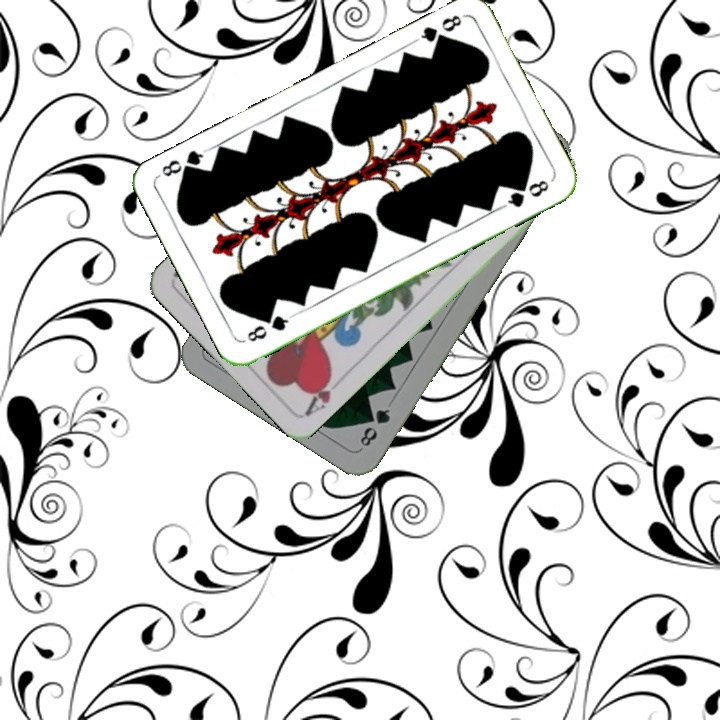G8: (411, 10, 466, 50), (243, 310, 295, 345), (356, 404, 393, 450)
HA: (301, 366, 348, 418)
